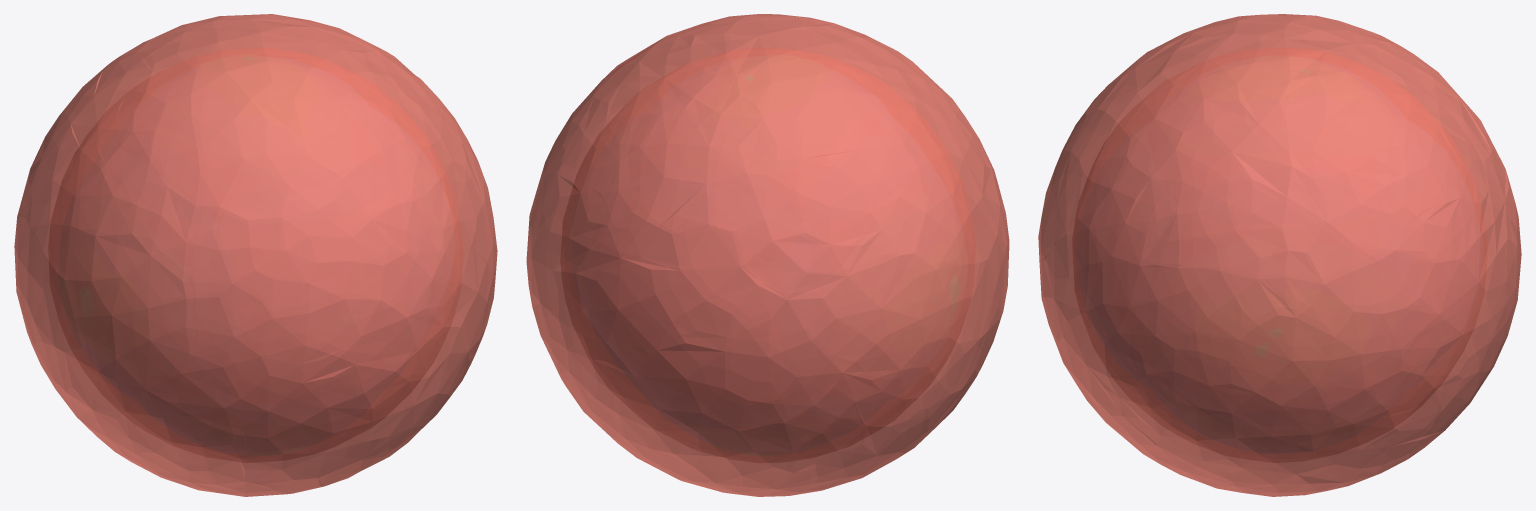
Rendered from orbital.glb.
3 renders of one model, left to right at view 1: azimuth 30°, elevation 25°; view 2: azimuth 150°, elevation 25°; view 3: azimuth 270°, elevation 25°, orthographic.
Visible parts, largest first — view 1: U_n7_s_ml0_node, U_n6_s_ml0_node; view 2: U_n7_s_ml0_node, U_n6_s_ml0_node; view 3: U_n7_s_ml0_node, U_n6_s_ml0_node.
Part boxes in pixels (left/top/right/bottom): U_n7_s_ml0_node: left=14, top=14, right=497, bottom=496; U_n6_s_ml0_node: left=48, top=48, right=463, bottom=462; U_n7_s_ml0_node: left=526, top=14, right=1009, bottom=496; U_n6_s_ml0_node: left=560, top=48, right=975, bottom=462; U_n7_s_ml0_node: left=1038, top=14, right=1521, bottom=496; U_n6_s_ml0_node: left=1072, top=48, right=1487, bottom=462.
Size of the model in its own units: 3.55 by 3.56 by 3.55.
